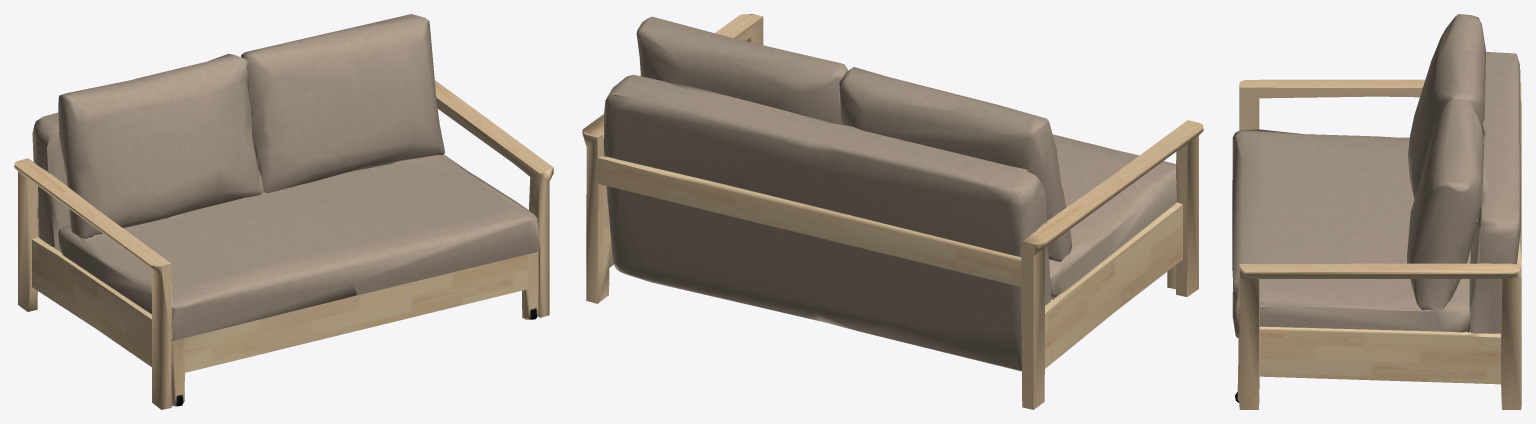
Rendered from tornsborg_sofa_2_osobowa_rozkadana_90584658.glb.
3 views of the same model, side by side, from view 1: azimuth 30°, elevation 25°; view 2: azimuth 150°, elevation 25°; view 3: azimuth 270°, elevation 25° (orthographic). The views are drawn at different scales.
Visible parts, largest first — view 1: tornsborg_sofa_2_osobowa_rozkadana_90584658; view 2: tornsborg_sofa_2_osobowa_rozkadana_90584658; view 3: tornsborg_sofa_2_osobowa_rozkadana_90584658.
Part boxes in pixels (<box>): tornsborg_sofa_2_osobowa_rozkadana_90584658: <box>14,14,553,409</box>; tornsborg_sofa_2_osobowa_rozkadana_90584658: <box>582,14,1203,409</box>; tornsborg_sofa_2_osobowa_rozkadana_90584658: <box>1232,14,1521,409</box>.
Size of the model in its own units: 1.54 by 0.8307 by 0.9762.
Materials: 1 (1 with a texture image).
